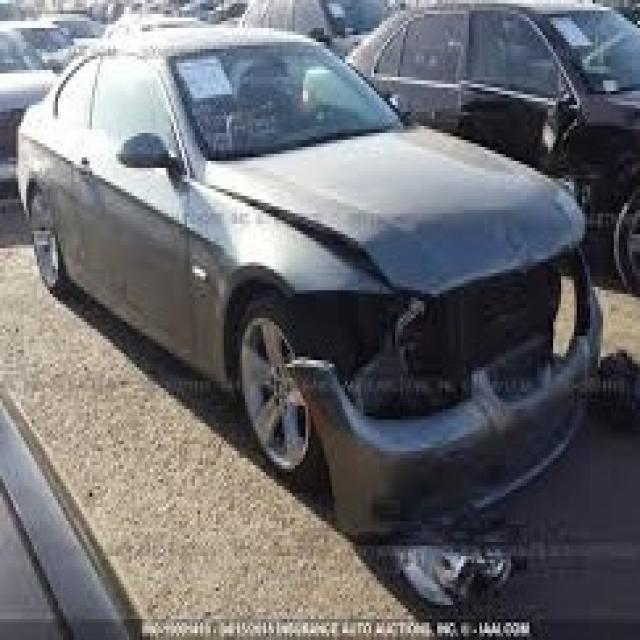moderate: (198, 150, 603, 503)
